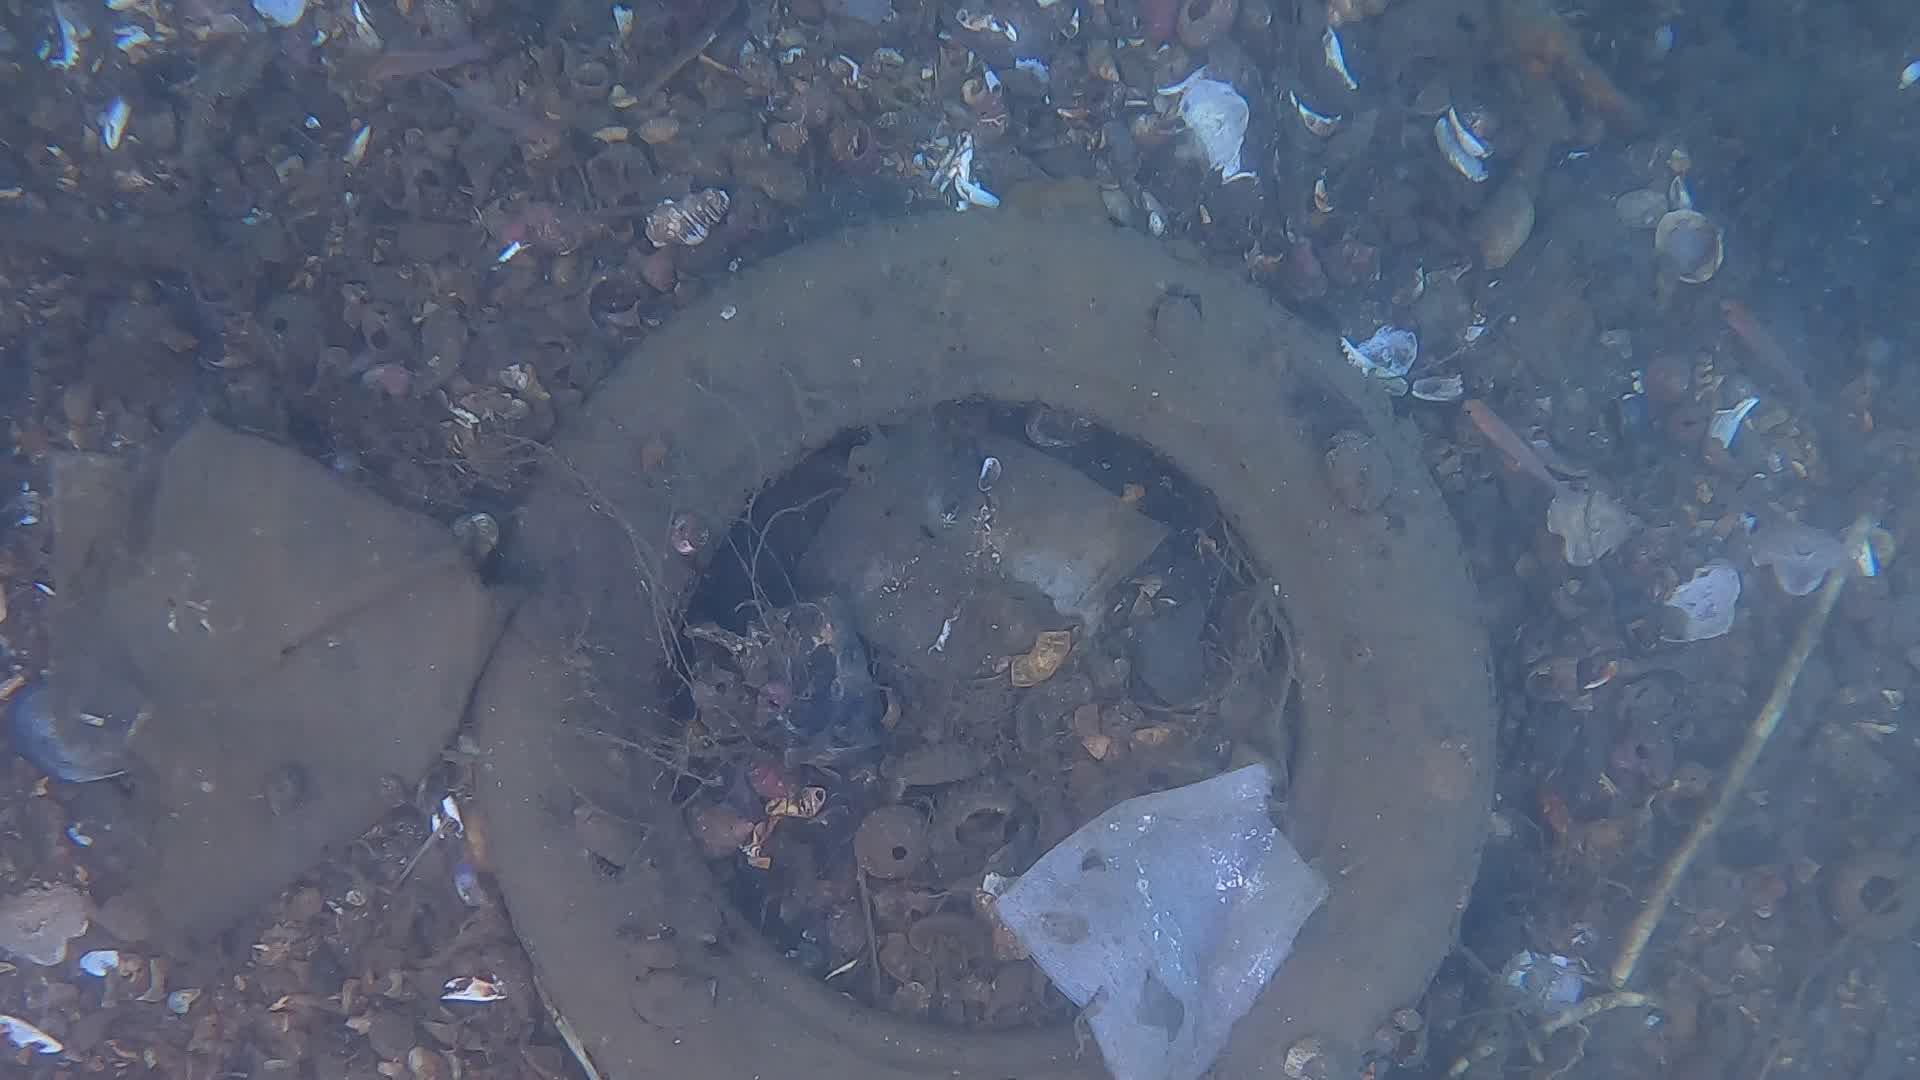tire: (454, 208, 1509, 1080)
